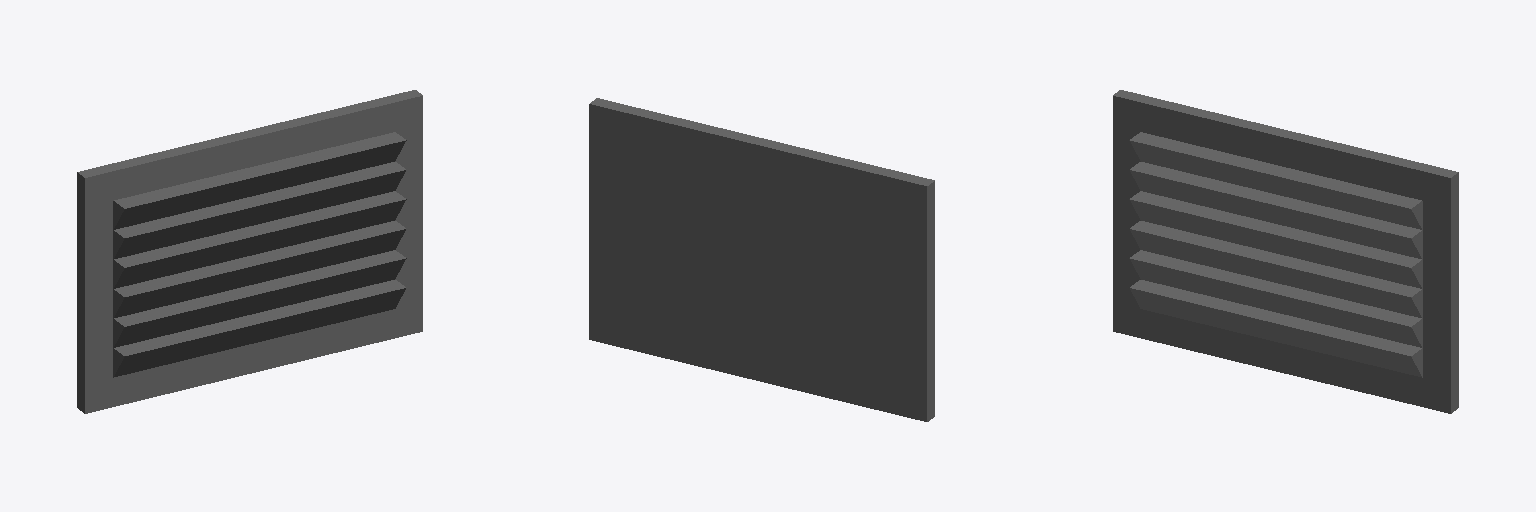
The model's file is Grill.obj.
3 views of the same model, side by side, from view 1: azimuth 30°, elevation 25°; view 2: azimuth 150°, elevation 25°; view 3: azimuth 330°, elevation 25° (orthographic).
Parts seen in each view (by area): view 1: Body1; view 2: Body1; view 3: Body1.
Part boxes in pixels (bbox=[...]): Body1: bbox=[77, 90, 422, 413]; Body1: bbox=[589, 98, 934, 421]; Body1: bbox=[1113, 90, 1458, 413].
Size of the model in its own units: 12 by 8 by 1.2.